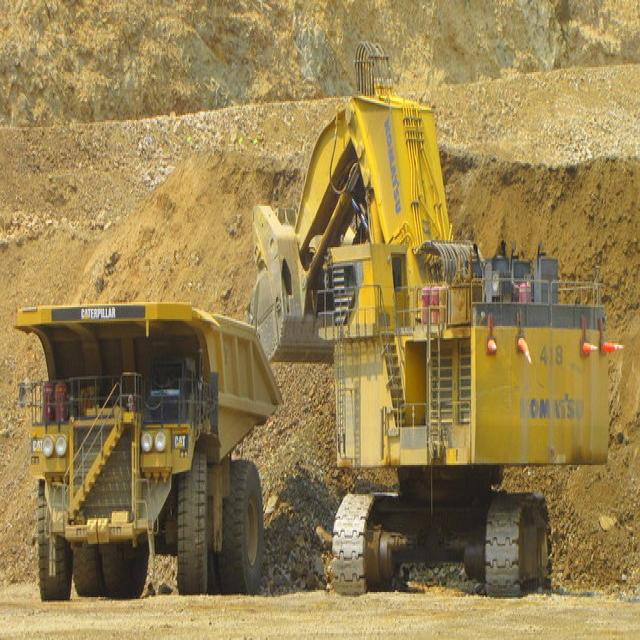dump_truck: (9, 286, 286, 608)
excavator: (241, 36, 622, 601)
